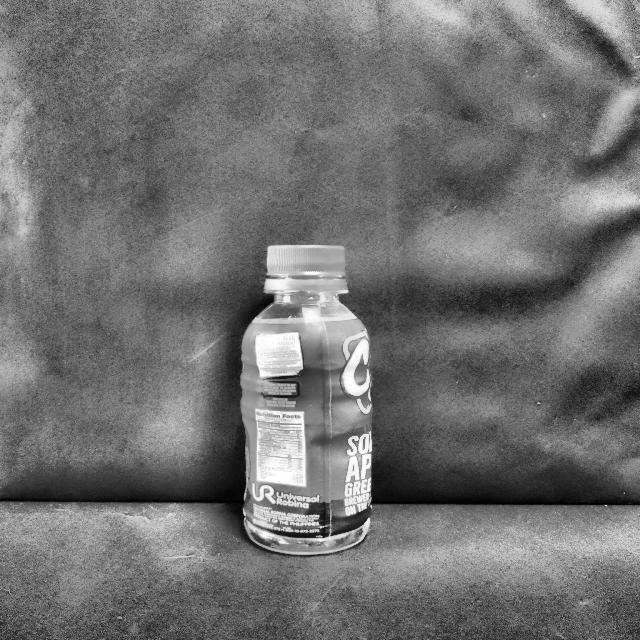Plastic-Bottle: (237, 241, 378, 557)
